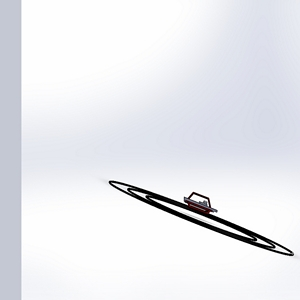circle: (96, 164, 300, 278)
submarine: (176, 183, 221, 221)
